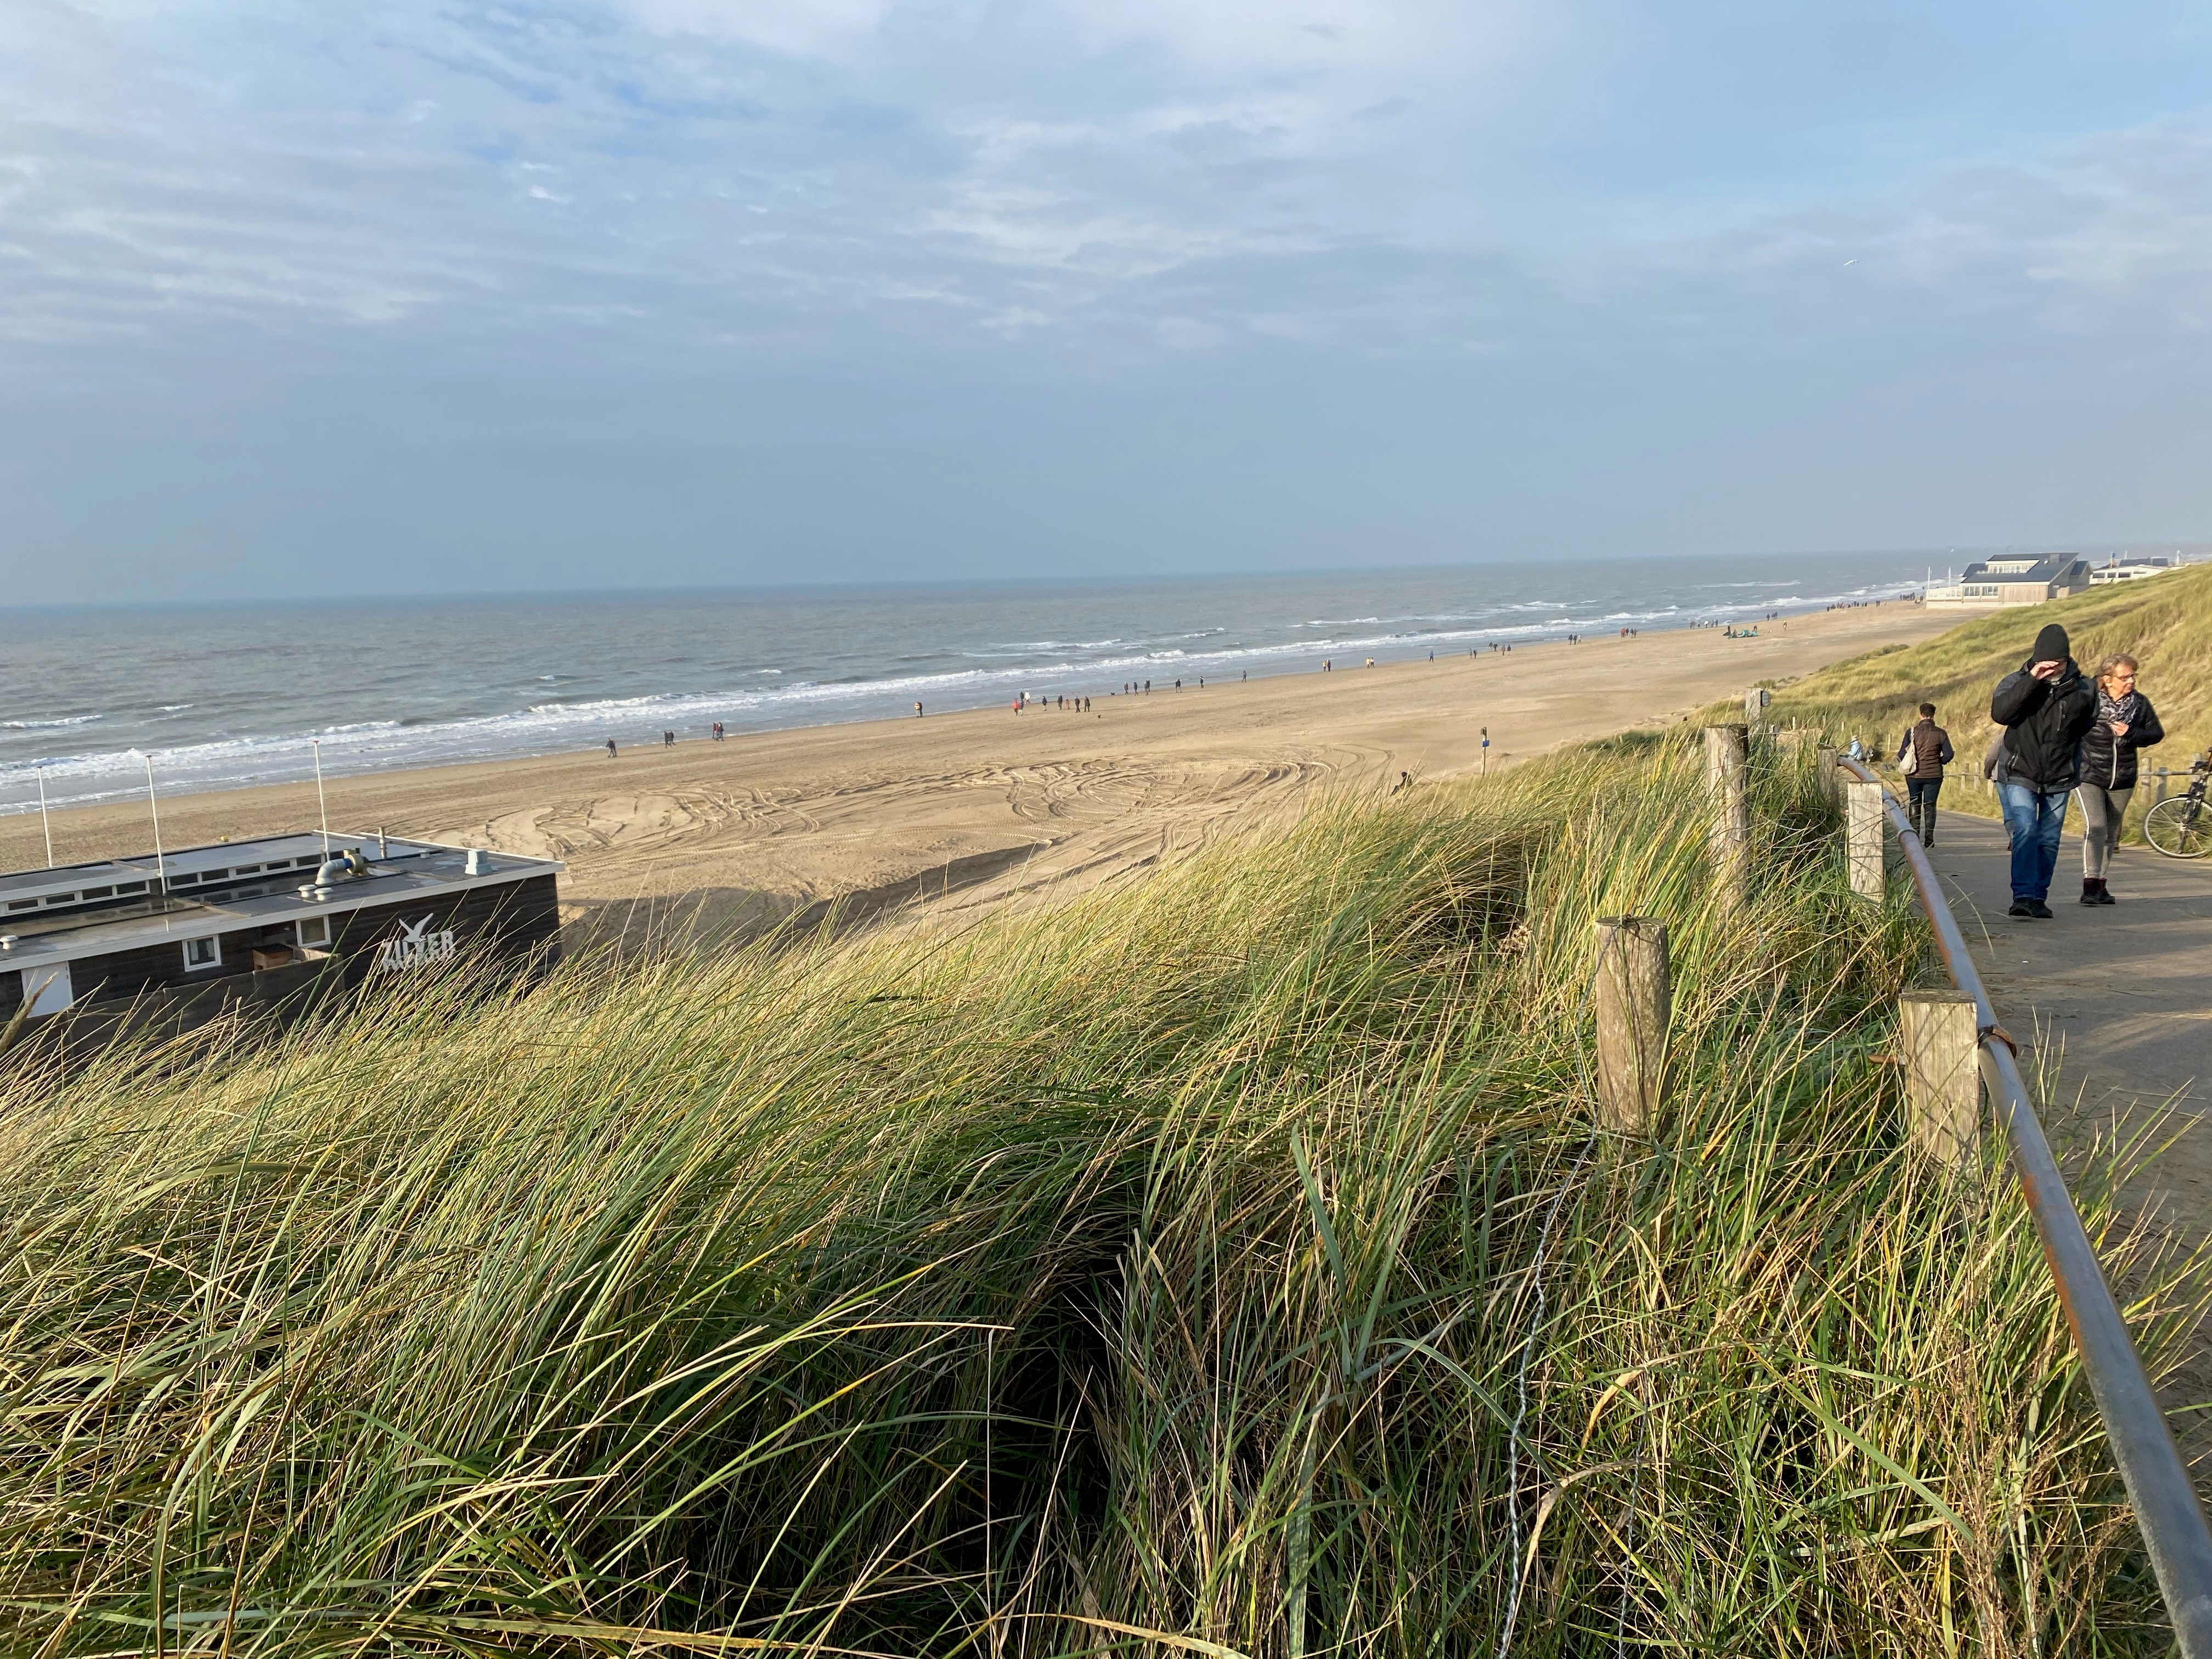pad: (1838, 728, 2212, 1321)
